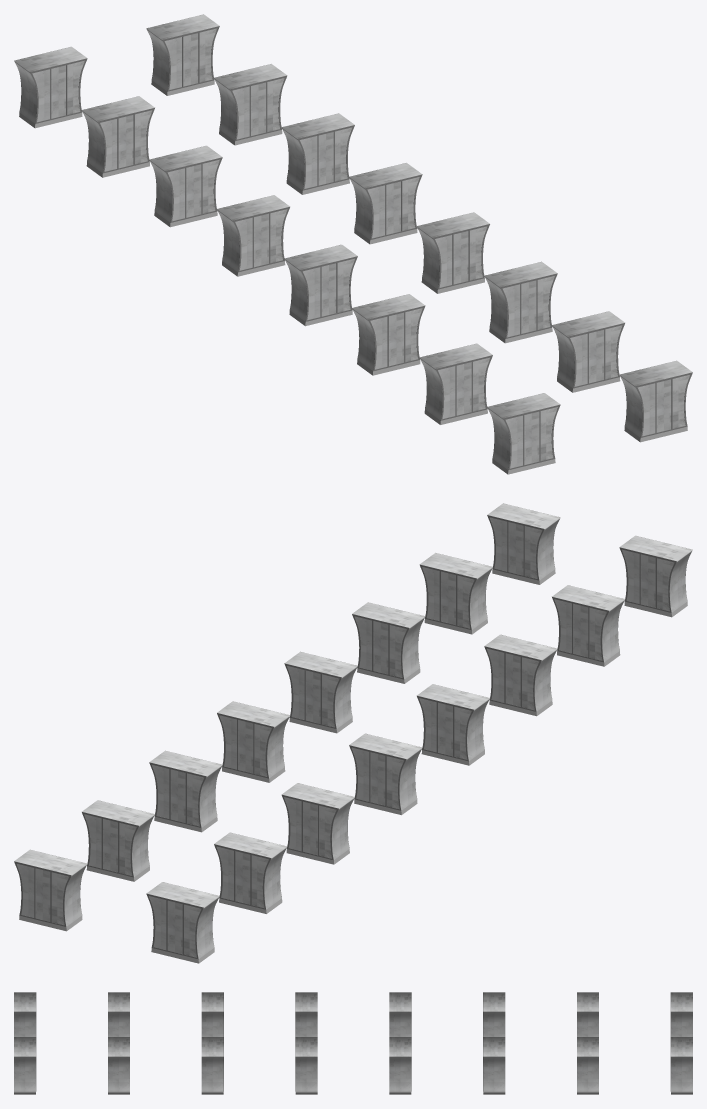
The model's file is Subway06Column.FBX.
3 views of the same model, one above another, from view 1: azimuth 30°, elevation 25°; view 2: azimuth 150°, elevation 25°; view 3: azimuth 270°, elevation 25° (orthographic). The views are drawn at different scales.
Visible parts, largest first — view 1: Subway06Column01a, Subway06Column01c, Subway06Column01b; view 2: Subway06Column01a, Subway06Column01c, Subway06Column01b; view 3: Subway06Column01a, Subway06Column01b, Subway06Column01c.
Part boxes in pixels (left/top/right/bottom): Subway06Column01a: left=14, top=14, right=692, bottom=469; Subway06Column01c: left=18, top=14, right=692, bottom=470; Subway06Column01b: left=19, top=80, right=687, bottom=474; Subway06Column01a: left=14, top=503, right=692, bottom=958; Subway06Column01c: left=14, top=503, right=688, bottom=959; Subway06Column01b: left=19, top=569, right=687, bottom=963; Subway06Column01a: left=14, top=992, right=692, bottom=1091; Subway06Column01b: left=14, top=1091, right=692, bottom=1094; Subway06Column01c: left=36, top=992, right=670, bottom=1091.
Size of the model in its own units: 13880 by 4004 by 61921.
